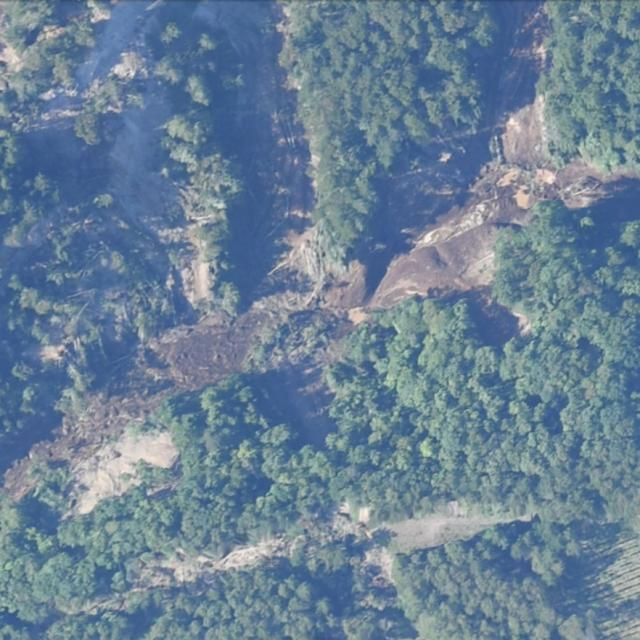landslide: (369, 163, 618, 310), (3, 389, 179, 519), (366, 194, 530, 310), (386, 517, 530, 555), (155, 332, 245, 388), (561, 173, 607, 207)
